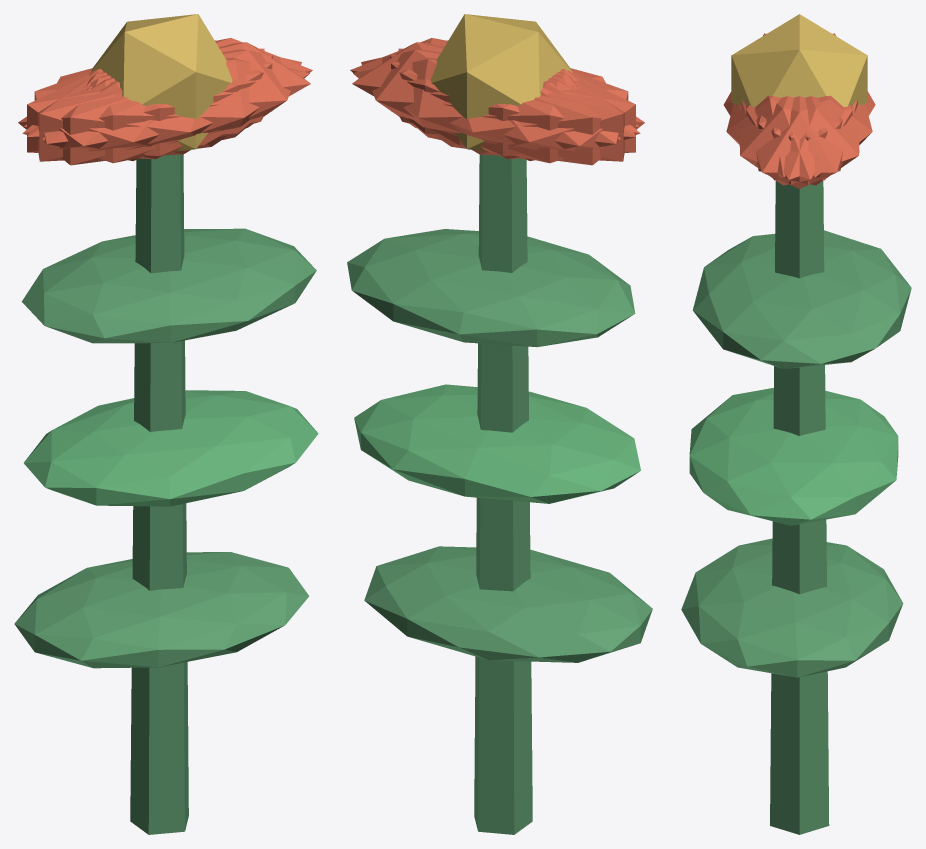
The model's file is hoheria-angustifolia.glb.
The picture shows the model from 3 angles, left to right: view 1: azimuth 30°, elevation 25°; view 2: azimuth 150°, elevation 25°; view 3: azimuth 270°, elevation 25°; orthographic projection.
Parts seen in each view (by area): view 1: stem, leaf0, leaf2, leaf1, center, petal1, petal6, petal2, petal5, petal7, petal0, petal4 (+2 smaller); view 2: stem, leaf2, leaf0, leaf1, center, petal8, petal3, petal7, petal4, petal2, petal0, petal5 (+2 smaller); view 3: leaf2, leaf1, stem, leaf0, center, petal0, petal4, petal5, petal8, petal1.
Part boxes in pixels (x1,y1,x2,y2): stem: (130,154,188,834); leaf0: (14,552,309,668); leaf2: (21,228,316,343); leaf1: (24,390,318,506); center: (90,14,232,151); petal1: (22,57,309,163); petal6: (18,70,226,165); petal2: (38,48,264,161); petal5: (42,49,301,155); petal7: (27,54,272,159); petal0: (90,42,310,145); petal4: (24,38,312,137); stem: (474,154,532,834); leaf2: (347,229,635,347); leaf0: (364,546,652,662); leaf1: (354,384,640,503); center: (430,14,572,151); petal8: (353,57,640,163); petal3: (437,70,644,165); petal7: (398,48,624,161); petal4: (361,49,620,155); petal2: (390,54,635,159); petal0: (352,42,572,145); petal5: (350,38,638,137); leaf2: (692,230,911,368); leaf1: (689,388,898,525); stem: (770,181,829,834); leaf0: (681,538,903,677); center: (731,14,867,106); petal0: (741,96,857,188); petal4: (746,96,859,185); petal5: (739,96,852,185); petal8: (756,95,872,177); petal1: (726,95,842,177).
Size of the model in its own units: 0.1452 by 0.392 by 0.1036.
